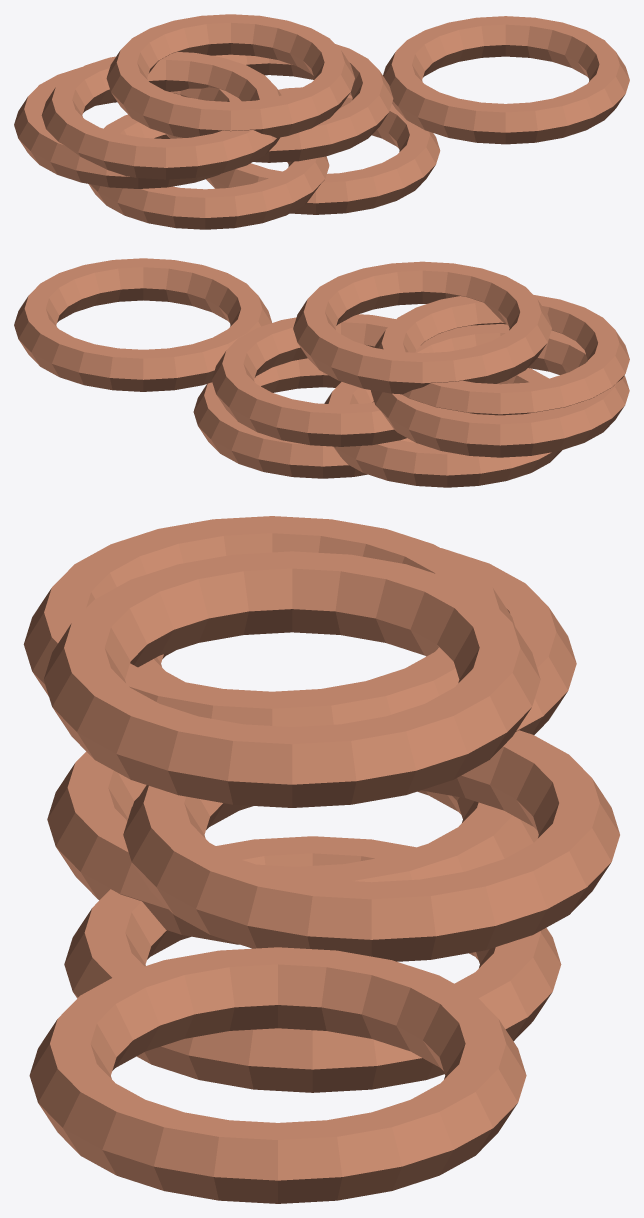
The model's file is fiber.glb.
The picture shows the model from 3 angles, top to bottom: view 1: azimuth 30°, elevation 25°; view 2: azimuth 150°, elevation 25°; view 3: azimuth 270°, elevation 25°; orthographic projection. The views are drawn at different scales.
Visible parts, largest first — view 1: Boucle de fil.003, Boucle de fil, Boucle de fil.006, Boucle de fil.002, Boucle de fil.001, Boucle de fil.004, Boucle de fil.005; view 2: Boucle de fil, Boucle de fil.003, Boucle de fil.005, Boucle de fil.006, Boucle de fil.004, Boucle de fil.001, Boucle de fil.002; view 3: Boucle de fil.003, Boucle de fil, Boucle de fil.004, Boucle de fil.001, Boucle de fil.006, Boucle de fil.002, Boucle de fil.005.
Boxes of the visible parts, x1,y1,x2,y2 form: Boucle de fil.003: (383, 16, 629, 144); Boucle de fil: (106, 14, 354, 137); Boucle de fil.006: (41, 52, 281, 179); Boucle de fil.002: (88, 114, 329, 229); Boucle de fil.001: (206, 87, 440, 214); Boucle de fil.004: (165, 44, 393, 162); Boucle de fil.005: (14, 67, 241, 188); Boucle de fil: (293, 261, 551, 394); Boucle de fil.003: (14, 258, 271, 391); Boucle de fil.005: (371, 324, 629, 457); Boucle de fil.006: (374, 295, 629, 415); Boucle de fil.004: (211, 314, 406, 446); Boucle de fil.001: (193, 358, 415, 478); Boucle de fil.002: (324, 368, 562, 487); Boucle de fil.003: (29, 947, 526, 1203); Boucle de fil: (43, 551, 540, 807); Boucle de fil.004: (123, 730, 619, 961); Boucle de fil.001: (64, 836, 561, 1092); Boucle de fil.006: (23, 516, 514, 726); Boucle de fil.002: (47, 751, 538, 944); Boucle de fil.005: (138, 548, 576, 734).
Bounding box in the file's own units: 1.46 × 0.3179 × 0.6601.
